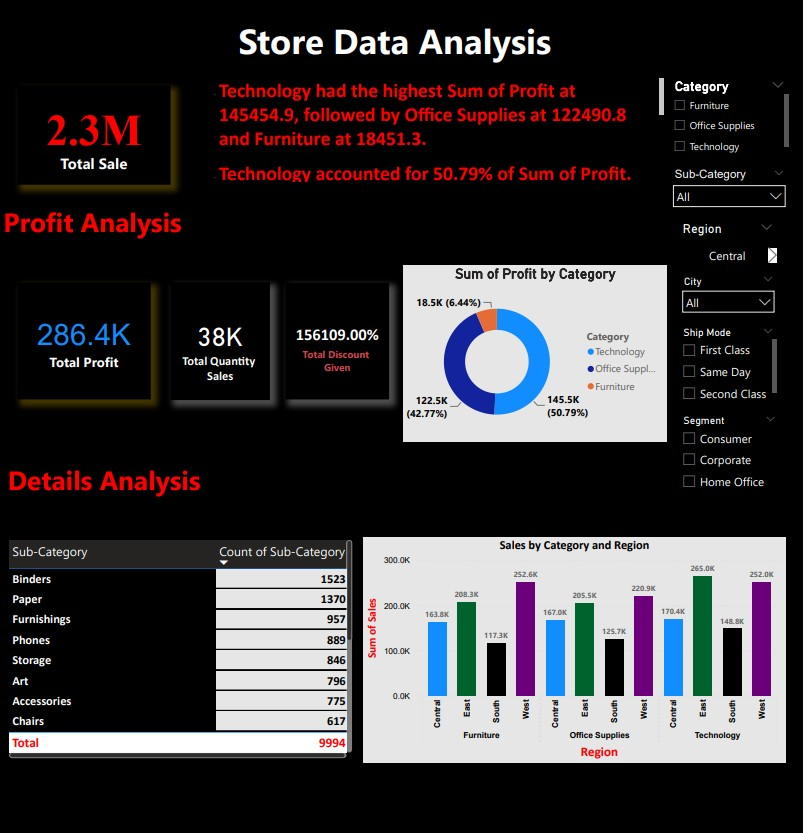

What the dashboard file says about the page in this screenshot:
{"tool":"powerbi","page":{"name":"Page 1","canvas":[1600,1000],"ordinal":0},"visuals":[{"type":"donutChart","fields":{"Y":["Sum(SampleSuperstore.Profit)"],"Category":["SampleSuperstore.Category","SampleSuperstore.Sub-Category"]},"box":[967.5,316.2,426.2,252.5],"z":0},{"type":"slicer","fields":{"Values":["SampleSuperstore.City"]},"box":[1410,453.8,171.2,72.5],"z":1000},{"type":"card","fields":{"Values":["Sum(SampleSuperstore.Sales)"]},"box":[160,106.2,266.2,163.8],"z":2000},{"type":"slicer","fields":{"Values":["SampleSuperstore.Category"]},"box":[1410,10,170,143.8],"z":3000},{"type":"slicer","fields":{"Values":["SampleSuperstore.Sub-Category"]},"box":[1410,187.5,170,92.5],"z":4000},{"type":"card","fields":{"Values":["Sum(SampleSuperstore.Profit)"]},"box":[87.5,363.8,216.2,190],"z":5000},{"type":"slicer","fields":{"Values":["SampleSuperstore.Region"]},"box":[1410,316.2,170,93.8],"z":6000},{"type":"card","fields":{"Values":["Sum(SampleSuperstore.Quantity)"]},"box":[403.8,358.8,188.8,190],"z":7000},{"type":"columnChart","title":"Sales by Category and Region","fields":{"Category":["SampleSuperstore.Category","SampleSuperstore.Region"],"Y":["Sum(SampleSuperstore.Sales)"]},"box":[652.5,625,741.2,367.5],"z":8000},{"type":"card","fields":{"Values":["Sum(SampleSuperstore.Discount)"]},"box":[716.2,347.5,193.8,201.2],"z":9000},{"type":"slicer","fields":{"Values":["SampleSuperstore.Ship Mode"]},"box":[1410,568.8,171.2,141.2],"z":10000},{"type":"slicer","fields":{"Values":["SampleSuperstore.Segment"]},"box":[1410,752.5,175,151.2],"z":11000},{"type":"textbox","box":[592.5,101.2,748.8,178.8],"z":12000},{"type":"textbox","box":[27.5,18.8,718.8,87.5],"z":13000},{"type":"textbox","box":[0,287.5,320,76.2],"z":14000},{"type":"tableEx","fields":{"Values":["SampleSuperstore.Sub-Category","CountNonNull(SampleSuperstore.Sub-Category)"]},"box":[6.2,625,646.2,367.5],"z":15000},{"type":"textbox","box":[6.2,553.8,627.5,73.8],"z":16000}]}

Visuals, with their boxes on the page's 1600x1000 design canvas (x1, y1, x2, y2). These are canvas units, not pixel positions in the 804x833 screenshot, which may show the page scaled, cropped or inside an application window:
donutChart - Sum(SampleSuperstore.Profit) x SampleSuperstore.Category: 968 316 1394 569
slicer - SampleSuperstore.City: 1410 454 1581 526
card - Sum(SampleSuperstore.Sales): 160 106 426 270
slicer - SampleSuperstore.Category: 1410 10 1580 154
slicer - SampleSuperstore.Sub-Category: 1410 188 1580 280
card - Sum(SampleSuperstore.Profit): 88 364 304 554
slicer - SampleSuperstore.Region: 1410 316 1580 410
card - Sum(SampleSuperstore.Quantity): 404 359 593 549
"Sales by Category and Region" columnChart: 652 625 1394 992
card - Sum(SampleSuperstore.Discount): 716 348 910 549
slicer - SampleSuperstore.Ship Mode: 1410 569 1581 710
slicer - SampleSuperstore.Segment: 1410 752 1585 904
textbox: 592 101 1341 280
textbox: 28 19 746 106
textbox: 0 288 320 364
tableEx - SampleSuperstore.Sub-Category x CountNonNull(SampleSuperstore.Sub-Category): 6 625 652 992
textbox: 6 554 634 628
